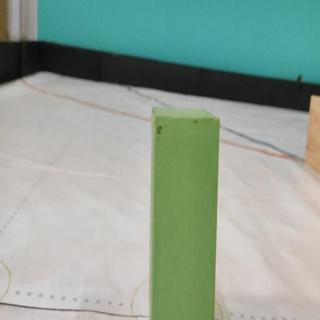greenbox: (148, 103, 221, 320)
